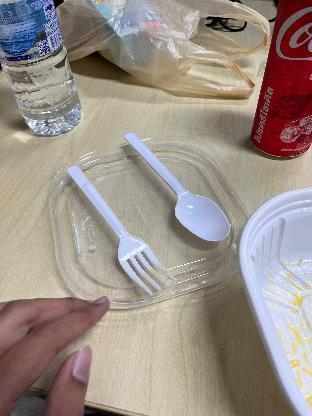Others: (60, 162, 184, 297), (116, 129, 236, 247)
Plastic Bottle: (0, 1, 84, 134)
